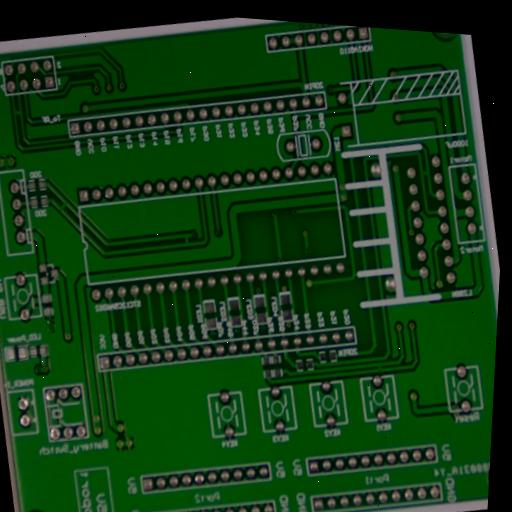short_circuit: (176, 227, 195, 251), (54, 196, 72, 216), (8, 104, 25, 121), (418, 164, 432, 180), (371, 361, 386, 375)
